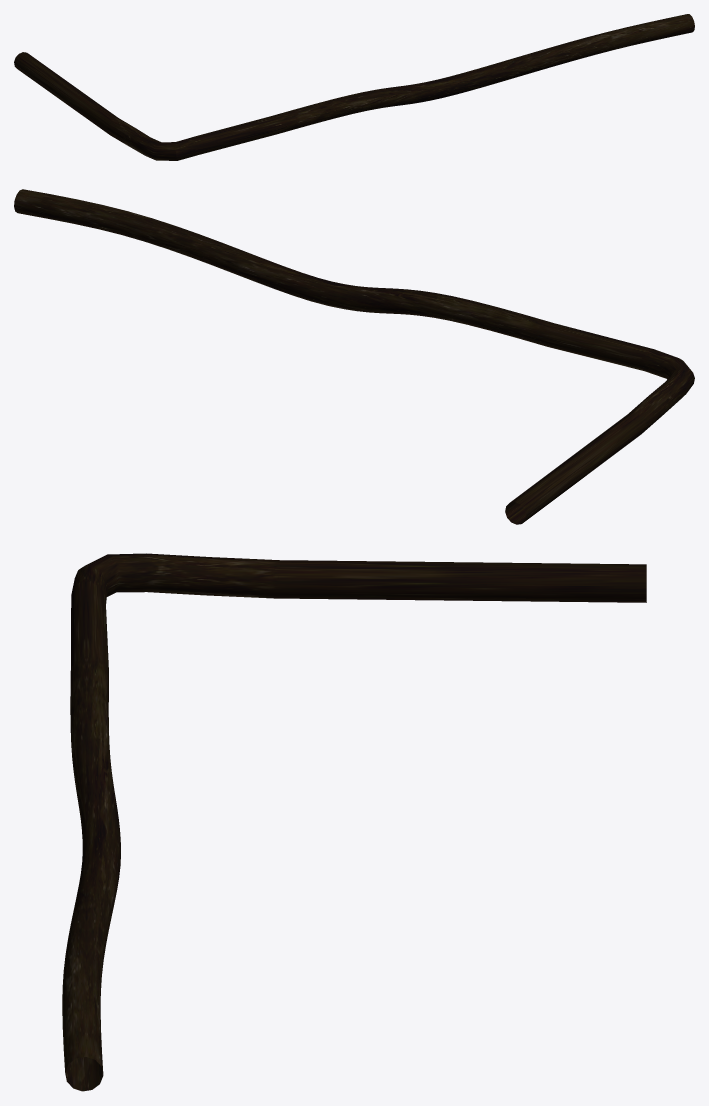
The model's file is CableCorner02.fbx.
3 renders of one model, top to bottom at view 1: azimuth 30°, elevation 25°; view 2: azimuth 150°, elevation 25°; view 3: azimuth 270°, elevation 25°, orthographic. The views are drawn at different scales.
Parts seen in each view (by area): view 1: Plane (19); view 2: Plane (19); view 3: Plane (19).
Boxes of the visible parts, x1,y1,x2,y2 form: Plane (19): [14, 14, 694, 160]; Plane (19): [14, 189, 694, 524]; Plane (19): [62, 553, 646, 1091].
Bounding box in the file's own units: 257 × 14.52 × 122.
